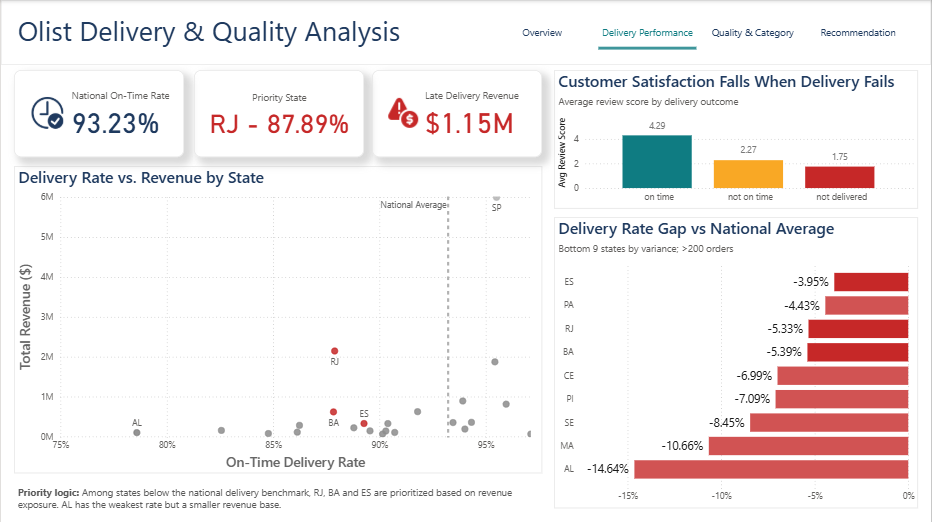

The page's visual inventory and layout, read from the dashboard file:
{"tool":"powerbi","page":{"name":"Delivery Performance","canvas":[1280,720],"ordinal":1},"visuals":[{"type":"clusteredColumnChart","title":"Customer Satisfaction Falls When Delivery Fails","fields":{"Category":["fact_orders.delivery_status"],"Y":["fact_orders.Avg Review Score"]},"box":[760.9,95.7,500.6,191.5],"z":0},{"type":"clusteredBarChart","title":"Delivery Rate Gap vs National Average","fields":{"Category":["fact_orders.customer_state"],"Y":["fact_orders.Variance from Avg"]},"box":[760.9,299,500.6,401.5],"z":1000},{"type":"shape","box":[0,0,1280,88.6],"z":2000},{"type":"textbox","box":[18.1,11.5,569.4,62.4],"z":3000},{"type":"pageNavigator","box":[677.7,19.7,571.1,49.2],"z":4000},{"type":"scatterChart","title":"Delivery Rate vs. Revenue by State","fields":{"X":["fact_orders.On-Time Delivery Rate"],"Y":["fact_orders.Total Revenue"],"Category":["fact_orders.Priority State Group"],"Series":["fact_orders.customer_state"]},"box":[18.5,228.5,727.3,423.3],"z":5000},{"type":"textbox","box":[18.5,663.5,727.3,48.7],"z":6000},{"type":"cardVisual","fields":{"Data":["fact_orders.On-Time Delivery Rate"]},"box":[17.9,96.3,234,119.7],"z":7000},{"type":"cardVisual","fields":{"Data":["fact_order_items.Priority State"]},"box":[265.6,96.3,234,119.7],"z":8000},{"type":"cardVisual","fields":{"Data":["fact_orders.Late Delivery Revenue"]},"box":[510.6,96.3,234,119.7],"z":9000}]}

Visuals, with their boxes in screenshot pixels (x1, y1, x2, y2), scaled from the page's 1280x720 canvas onto the 932x522 screenshot:
"Customer Satisfaction Falls When Delivery Fails" clusteredColumnChart: [554,69,919,208]
"Delivery Rate Gap vs National Average" clusteredBarChart: [554,217,919,508]
shape: [0,0,931,64]
textbox: [13,8,428,54]
pageNavigator: [493,14,909,50]
"Delivery Rate vs. Revenue by State" scatterChart: [13,166,543,473]
textbox: [13,481,543,516]
cardVisual - fact_orders.On-Time Delivery Rate: [13,70,183,157]
cardVisual - fact_order_items.Priority State: [193,70,364,157]
cardVisual - fact_orders.Late Delivery Revenue: [372,70,542,157]
